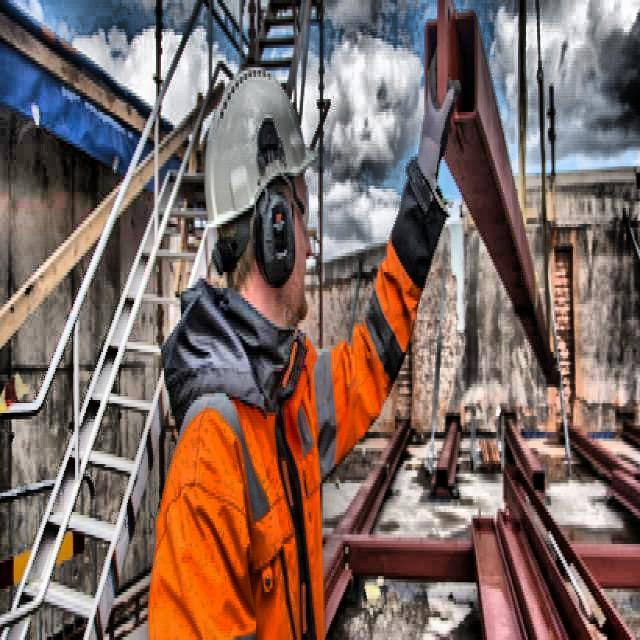person: (150, 61, 348, 640)
